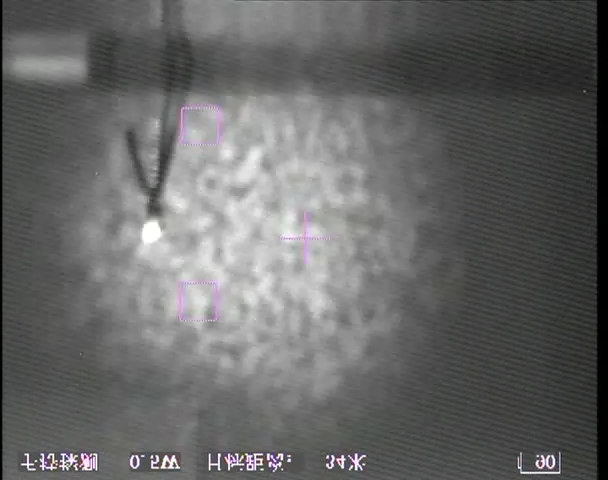my: (138, 218, 162, 246)
